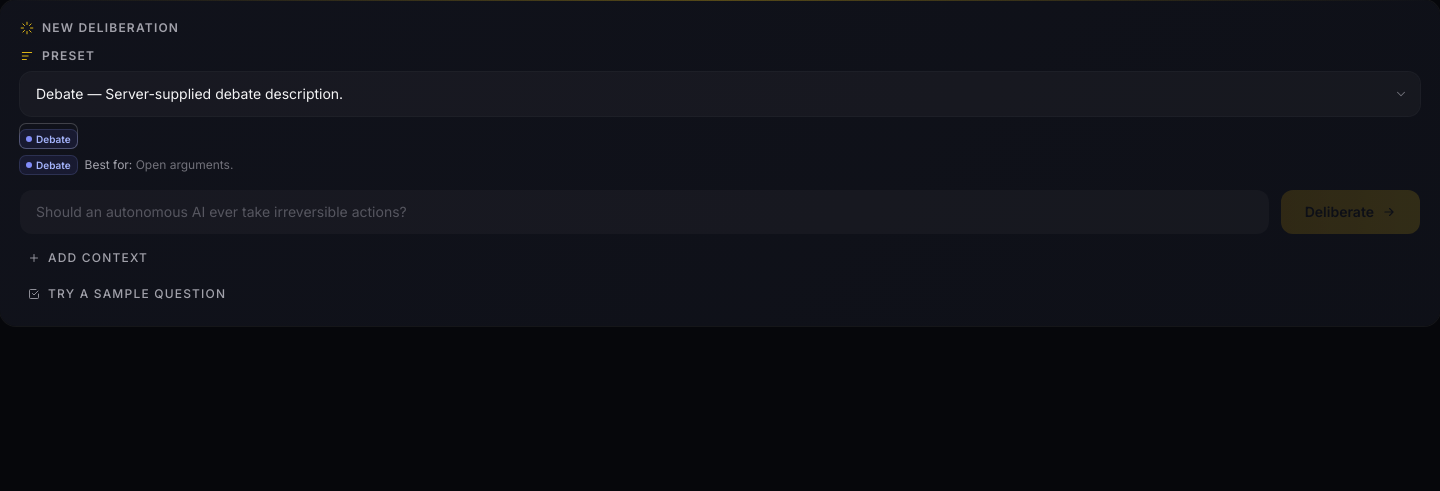
Test: NewDeliberation context textarea (PAR-16) › hides the textarea by default and reveals it on click
Note: The "Add context" toggle is visible.
Click the button "Add context" at (88, 258), box x1=20 y1=246 x2=156 y2=270
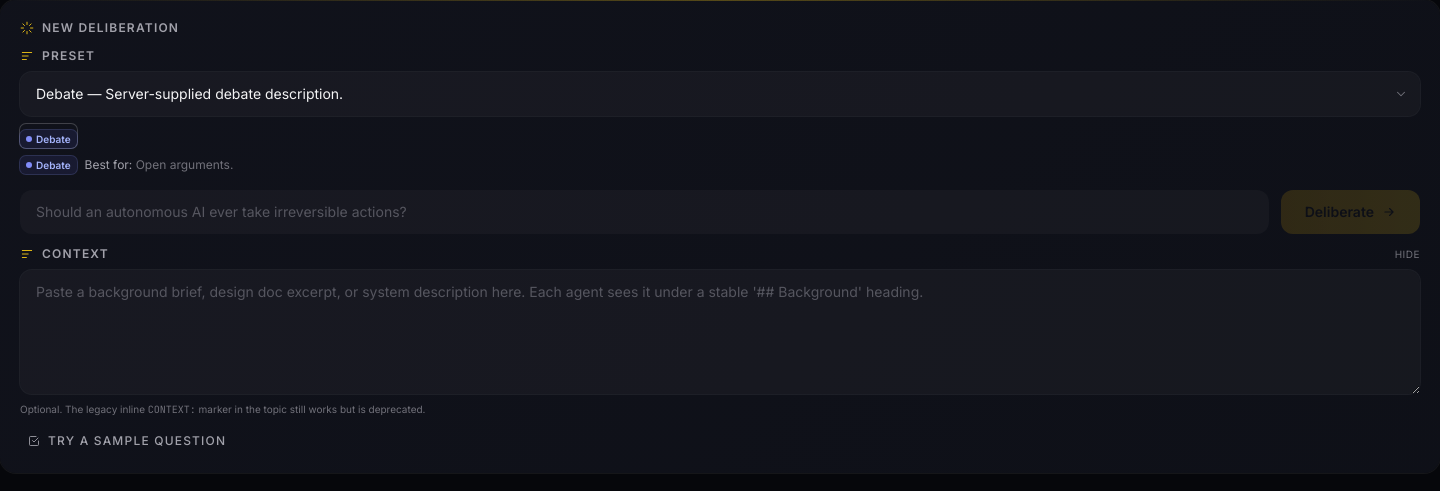
Now the text box named "deliberation context" is shown, box x1=20 y1=270 x2=1420 y2=394
